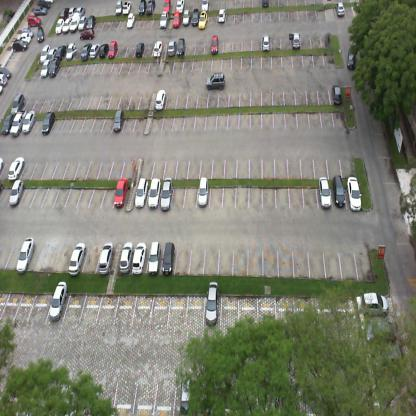car: (47, 280, 68, 322), (363, 319, 397, 344), (358, 292, 390, 317), (14, 235, 35, 272), (373, 347, 401, 373), (178, 371, 194, 415), (205, 280, 219, 327), (68, 242, 86, 276), (347, 173, 362, 212), (317, 172, 332, 210), (146, 240, 161, 277), (118, 240, 134, 274), (331, 172, 346, 208), (98, 242, 114, 275), (132, 241, 147, 276), (146, 176, 161, 210), (160, 240, 175, 274), (8, 178, 24, 209), (7, 156, 25, 183), (160, 176, 174, 210), (114, 176, 128, 210), (204, 70, 226, 91), (134, 178, 148, 209), (9, 110, 25, 136), (41, 110, 56, 136), (197, 176, 208, 210), (11, 92, 25, 116), (112, 108, 124, 135), (22, 110, 36, 133), (0, 112, 13, 136), (153, 89, 166, 110), (331, 82, 342, 106), (48, 60, 62, 78), (345, 48, 356, 70), (38, 42, 50, 62), (69, 12, 79, 34), (106, 40, 118, 58), (133, 41, 145, 58), (209, 33, 218, 55), (196, 10, 207, 28), (88, 43, 100, 59), (12, 39, 28, 51), (291, 31, 301, 50), (158, 10, 169, 27), (65, 42, 76, 59), (261, 32, 270, 52), (176, 38, 185, 58), (152, 39, 162, 57), (62, 17, 72, 35), (80, 28, 95, 40), (125, 12, 136, 28), (98, 43, 109, 59), (16, 31, 32, 42), (26, 13, 42, 24), (166, 40, 176, 57), (171, 10, 181, 27), (54, 45, 66, 59), (0, 65, 12, 79), (190, 7, 199, 25), (80, 43, 89, 61), (336, 1, 346, 17), (40, 61, 50, 77), (86, 14, 96, 30), (145, 1, 156, 15), (217, 6, 226, 23), (182, 8, 190, 27), (36, 26, 45, 42), (54, 18, 63, 34), (33, 6, 48, 15), (122, 1, 132, 14), (78, 14, 86, 30), (137, 0, 146, 14), (59, 6, 70, 17), (175, 1, 186, 12), (22, 27, 34, 37), (114, 1, 122, 16), (37, 0, 50, 9), (48, 47, 58, 58), (162, 0, 172, 11), (0, 72, 7, 87), (68, 6, 76, 16), (200, 0, 210, 8), (261, 0, 269, 9), (76, 6, 86, 12)
